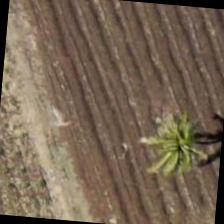Kelapa_Sawit: (135, 91, 223, 190)
